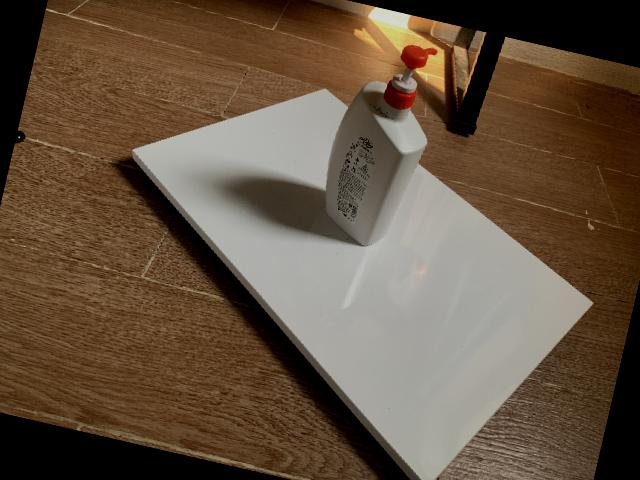life-buoy: (325, 45, 437, 247)
